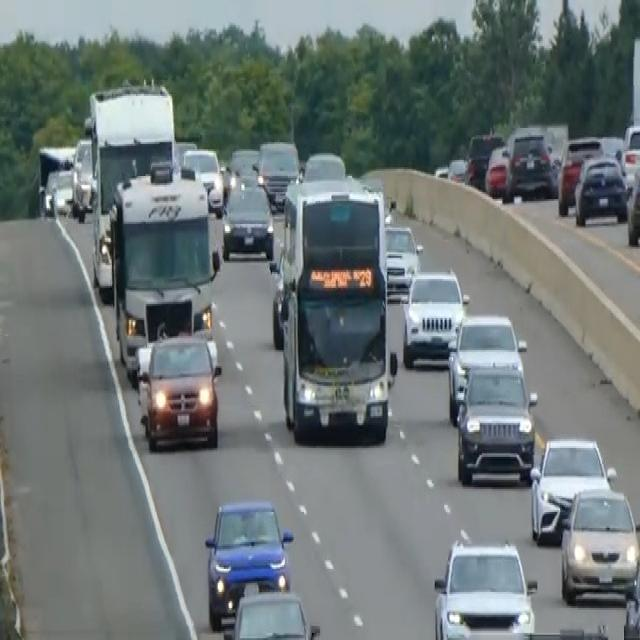bus: (275, 172, 397, 444), (107, 160, 221, 380)
car: (203, 496, 294, 629), (432, 535, 537, 638), (455, 358, 537, 486), (138, 331, 222, 452), (559, 482, 639, 604), (528, 434, 616, 544), (446, 311, 527, 421), (400, 265, 468, 368), (222, 587, 320, 638), (221, 180, 274, 262), (573, 151, 628, 226), (557, 134, 603, 214), (255, 137, 300, 210), (509, 132, 554, 199), (181, 146, 224, 215), (383, 220, 423, 294), (36, 142, 75, 217), (464, 130, 503, 188), (267, 245, 288, 348), (70, 135, 93, 219), (222, 146, 259, 192), (484, 142, 512, 199), (623, 542, 639, 638), (302, 150, 346, 182), (618, 121, 639, 188), (625, 160, 639, 247), (446, 155, 468, 183)
